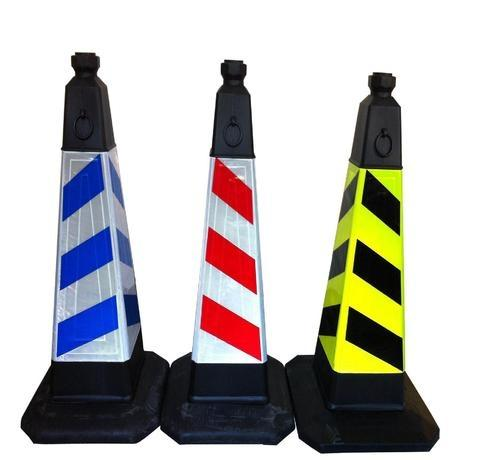cone_barrel: (18, 59, 164, 424), (292, 81, 427, 440), (171, 62, 282, 428)
